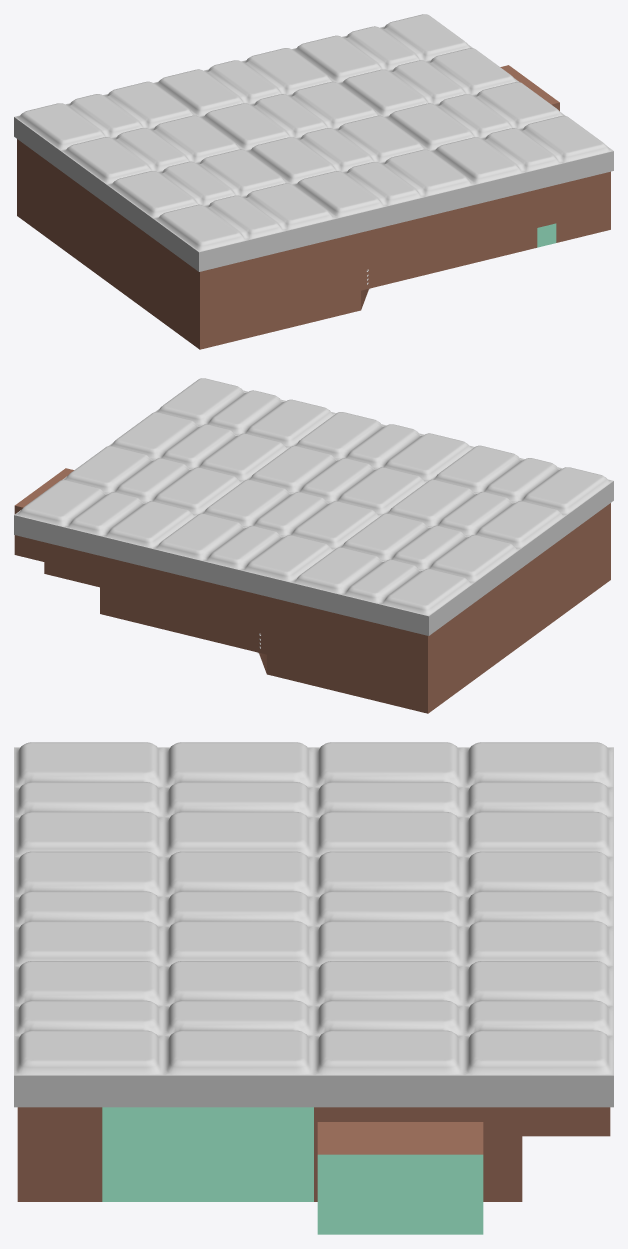
File: SM_geo_ArcadeRoom.fbx
3 renders of one model, top to bottom at view 1: azimuth 30°, elevation 25°; view 2: azimuth 150°, elevation 25°; view 3: azimuth 270°, elevation 25°, orthographic. The views are drawn at different scales.
Visible parts, largest first — view 1: CeilingConcrete_Arcade005, ArcadeRoom; view 2: CeilingConcrete_Arcade005, ArcadeRoom; view 3: CeilingConcrete_Arcade005, ArcadeRoom.
Part boxes in pixels (x1,y1,x2,y2): CeilingConcrete_Arcade005: [14, 14, 613, 271]; ArcadeRoom: [17, 65, 610, 349]; CeilingConcrete_Arcade005: [14, 378, 613, 635]; ArcadeRoom: [14, 468, 610, 713]; CeilingConcrete_Arcade005: [14, 742, 613, 1107]; ArcadeRoom: [17, 1107, 610, 1234].
Size of what is drawn, in the model's own units: 2410 by 530 by 1701.
